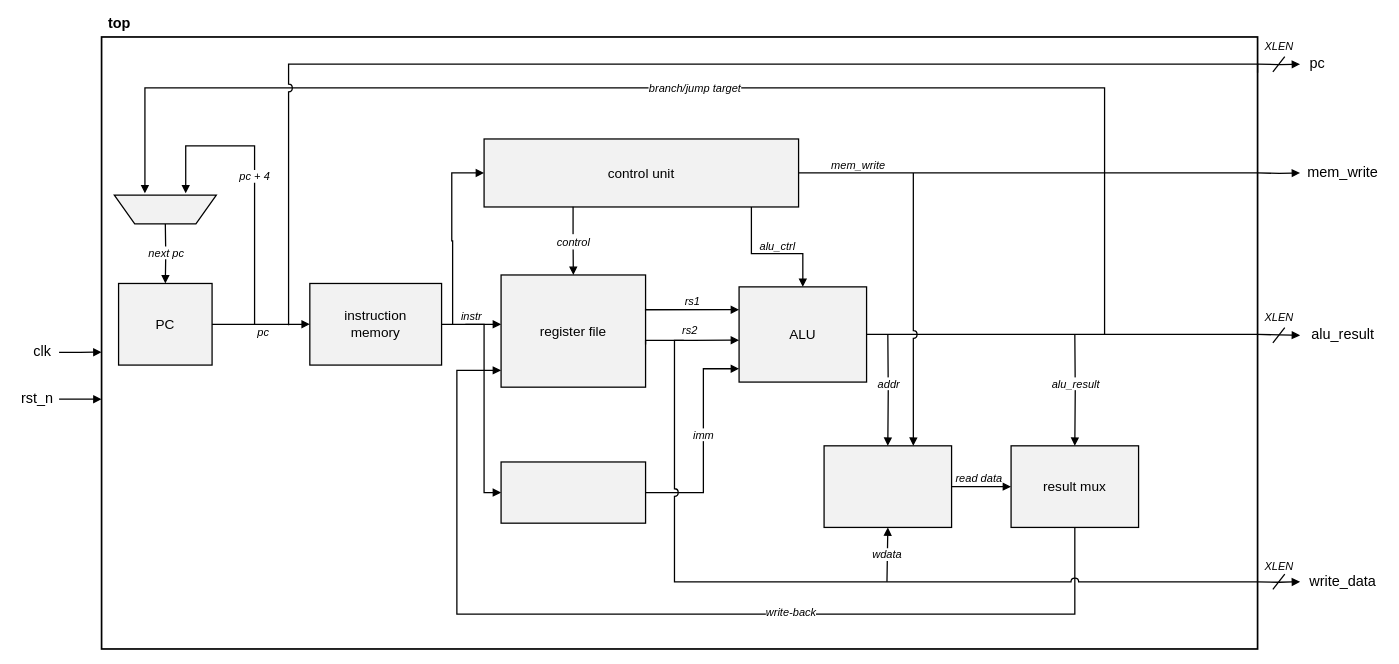
This 1399x664 diagram has some shape labels left out. Here are the shapes that lost their labels. From the top down, the box of each, then its label:
(113, 194, 217, 224): next-PC mux
(500, 461, 646, 523): immediate extend
(823, 445, 952, 528): data memory
